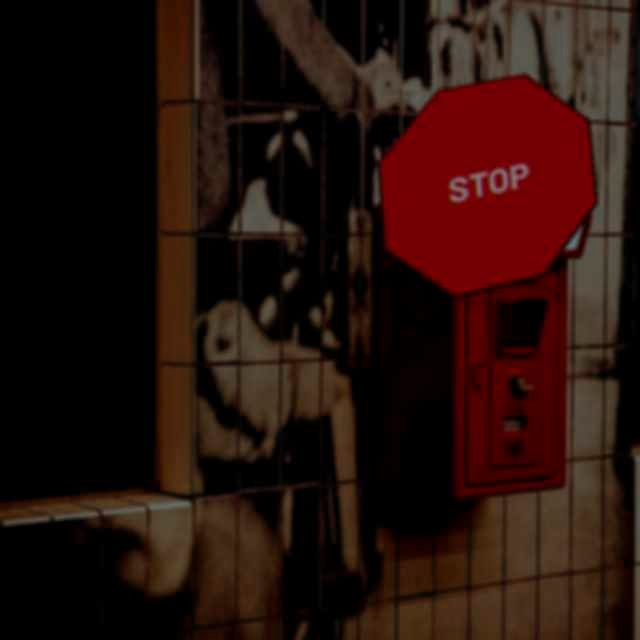STOP: (377, 73, 598, 299)
